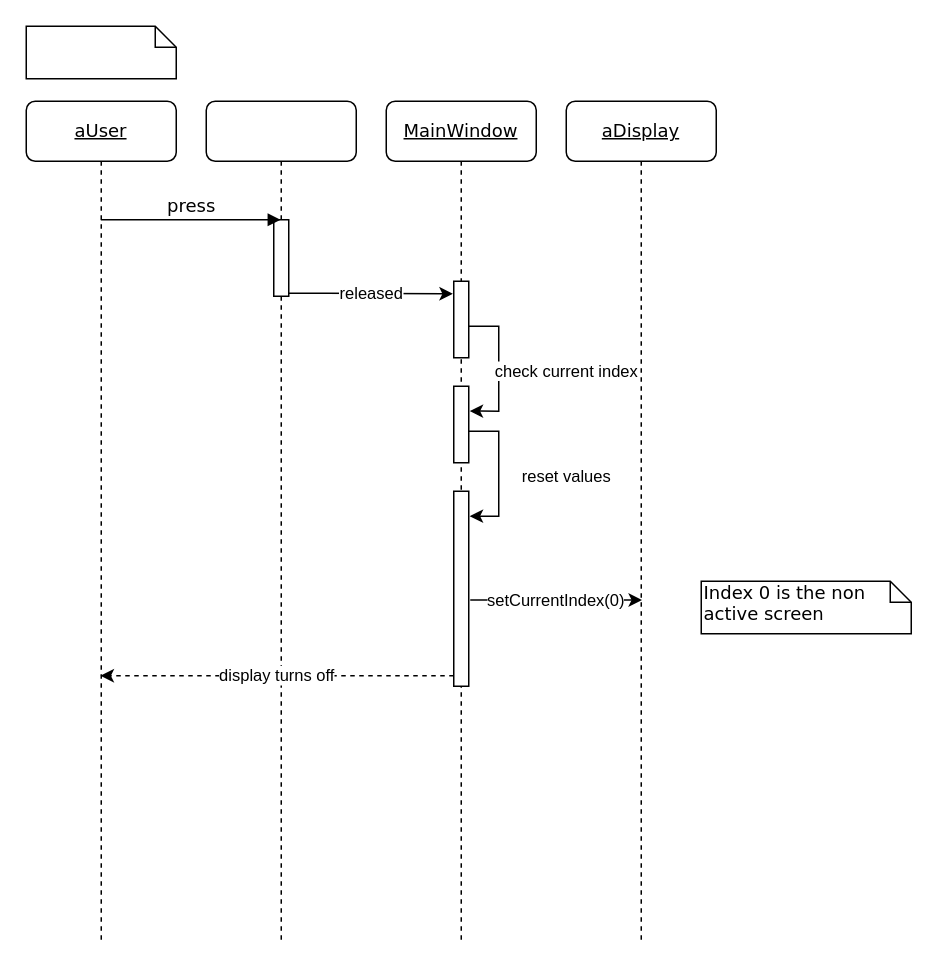
Image size: 938x968. Some labels were removed from this diagram. The shapes that lost their labels are listed below. From the top down, each one's box as (x1, y1, x2, y2) in pixels, then its label:
(25, 25, 176, 79): Turn Device off
(205, 100, 356, 941): aPowerButton
